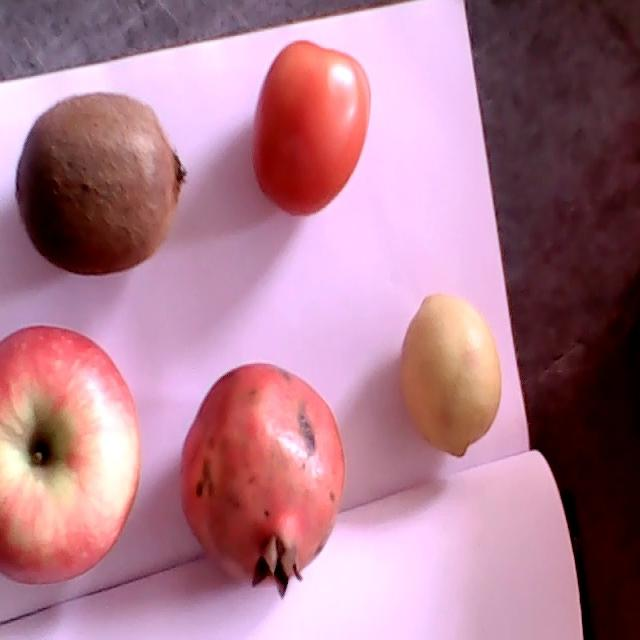apple: (0, 327, 141, 585)
kiwi: (15, 95, 186, 278)
lemon: (399, 293, 501, 455)
pomegranate: (180, 363, 344, 597)
tomato: (253, 40, 372, 214)
